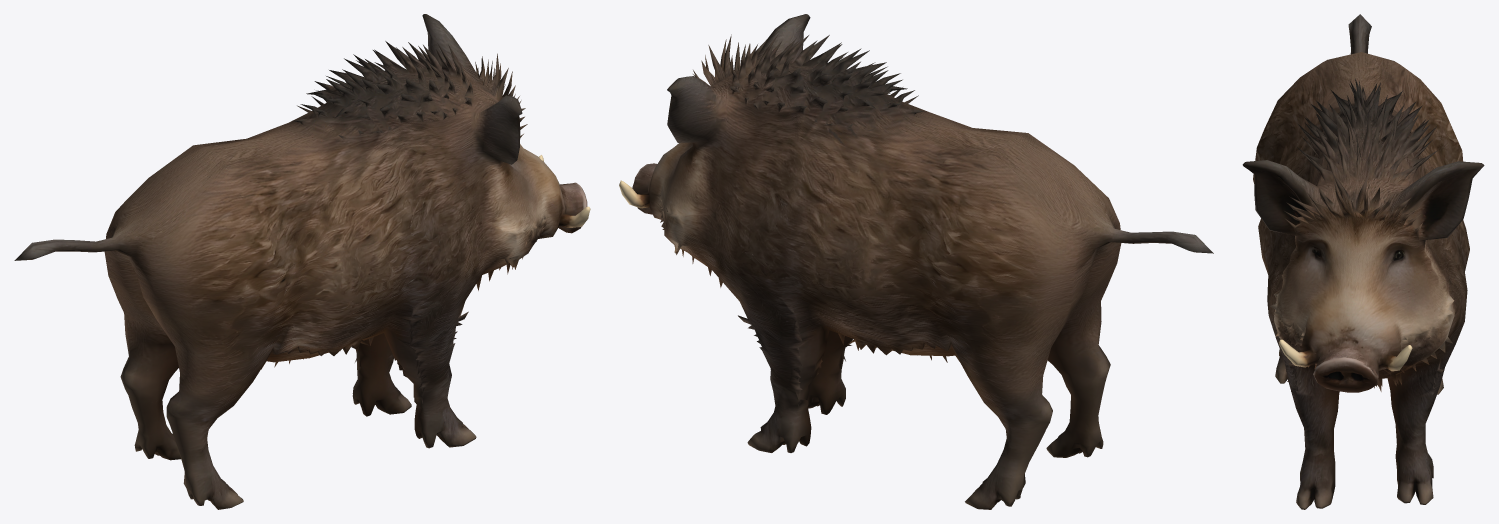
3 views of the same model, side by side, from view 1: azimuth 30°, elevation 25°; view 2: azimuth 150°, elevation 25°; view 3: azimuth 270°, elevation 25° (orthographic). The views are drawn at different scales.
Visible parts, largest first — view 1: tripo_node_b8ef5922-5dc4-4265-b133-a6a1a30c568b; view 2: tripo_node_b8ef5922-5dc4-4265-b133-a6a1a30c568b; view 3: tripo_node_b8ef5922-5dc4-4265-b133-a6a1a30c568b.
Part boxes in pixels (x1,y1,x2,y2): tripo_node_b8ef5922-5dc4-4265-b133-a6a1a30c568b: (14, 14, 590, 509); tripo_node_b8ef5922-5dc4-4265-b133-a6a1a30c568b: (619, 14, 1213, 509); tripo_node_b8ef5922-5dc4-4265-b133-a6a1a30c568b: (1242, 14, 1484, 509).
Size of the model in its own units: 0.998 by 0.6348 by 0.3613.
Materials: 1 (1 with a texture image).
